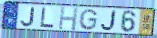6: (120, 9, 138, 34)
G: (78, 8, 99, 31)
H: (57, 6, 79, 32)
J: (100, 10, 117, 32), (20, 7, 36, 28)
L: (39, 6, 55, 29)
